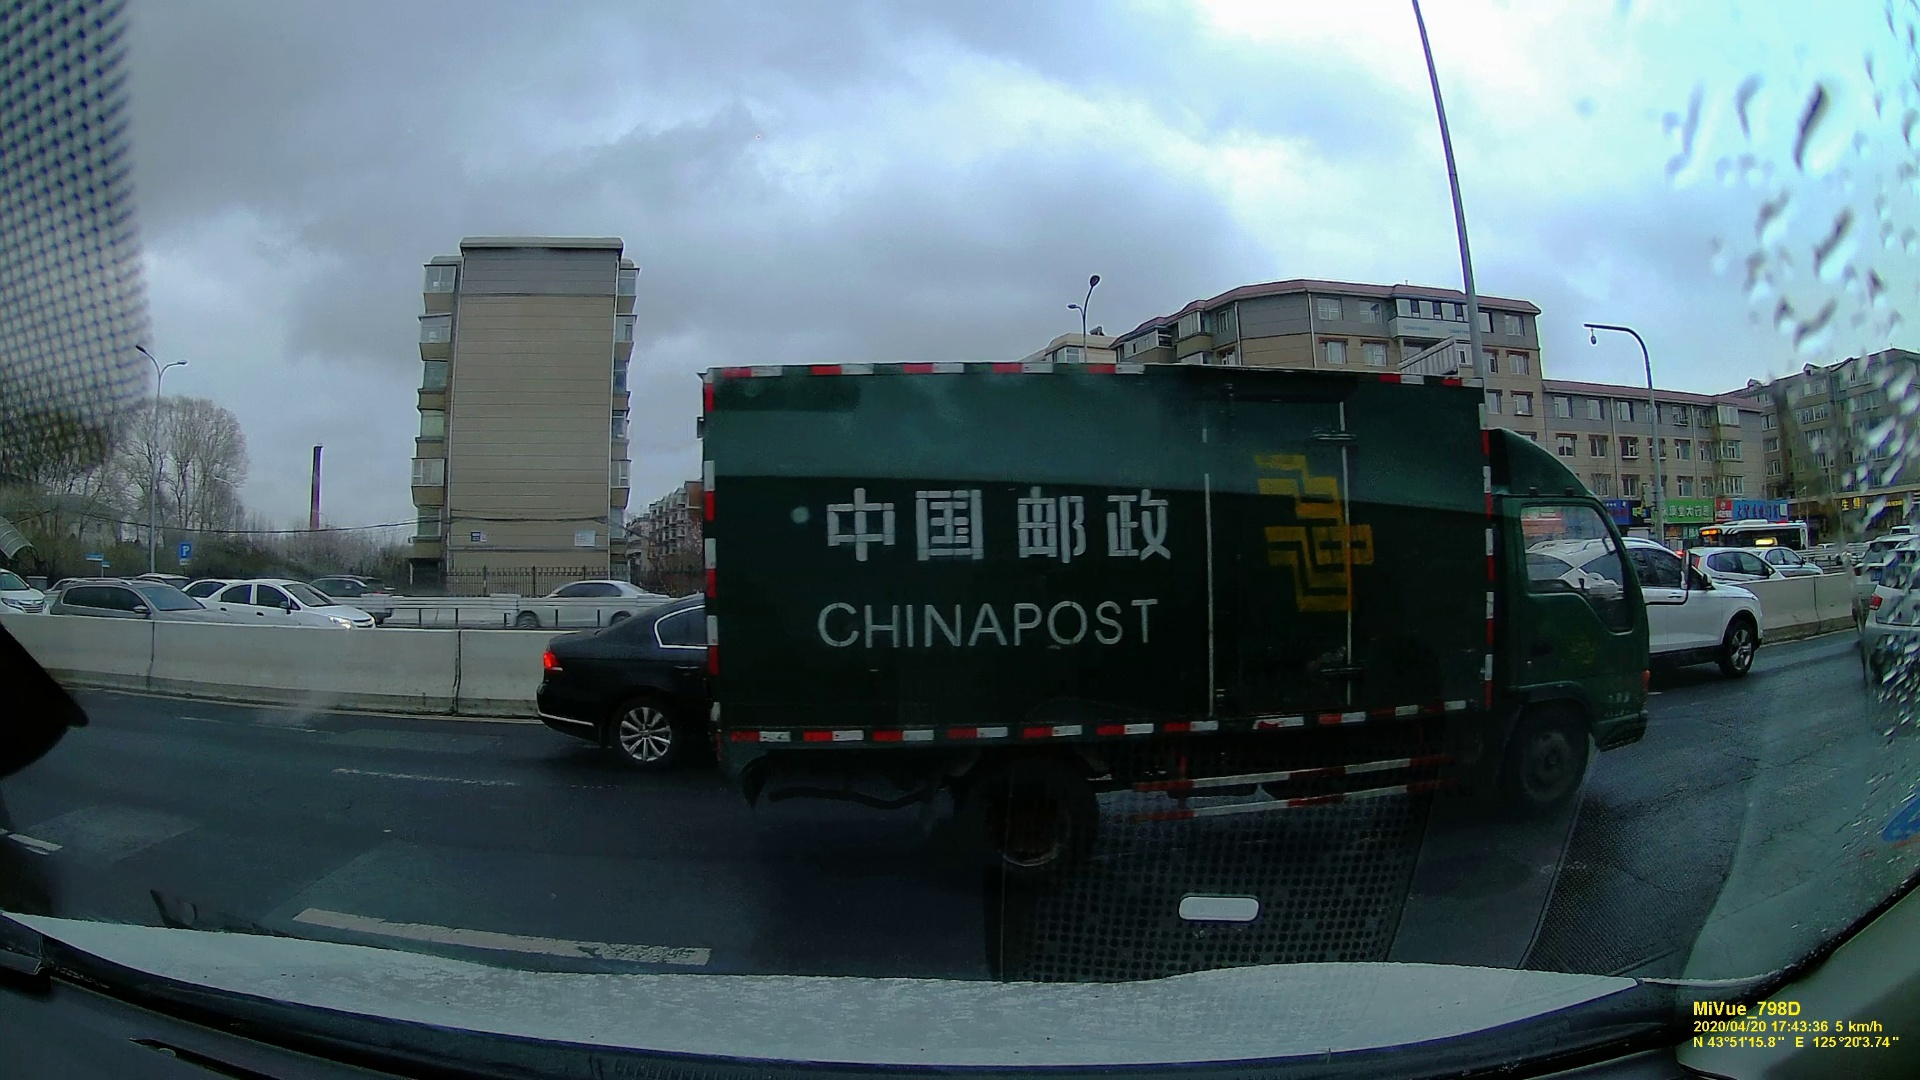truck: (692, 361, 1651, 837)
vehicle: (524, 593, 723, 767), (1633, 535, 1759, 678), (512, 576, 665, 636), (57, 571, 214, 628), (222, 580, 368, 629)
